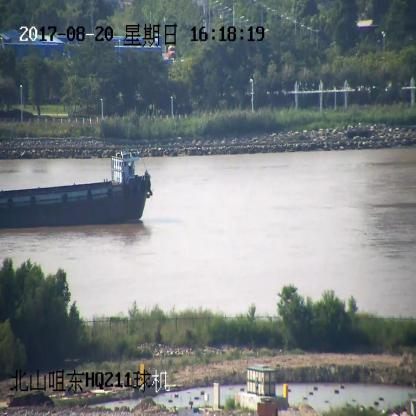Bulk Carrier: (0, 150, 150, 226)
